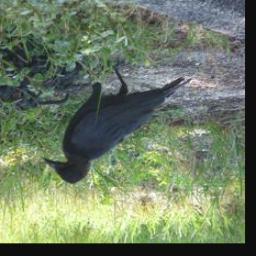Crow: (44, 59, 193, 185)
